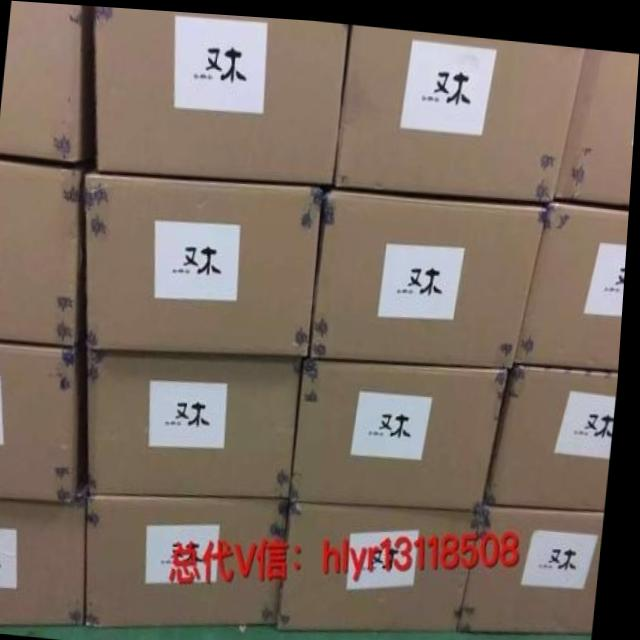box: (93, 5, 349, 178), (85, 172, 322, 353), (333, 22, 584, 189), (317, 187, 550, 365), (295, 352, 512, 507), (88, 347, 307, 493), (92, 491, 295, 622), (285, 494, 489, 623), (0, 152, 98, 344), (518, 195, 631, 360), (468, 493, 609, 625), (493, 360, 621, 500), (0, 1, 100, 161), (0, 338, 88, 502), (0, 474, 93, 624), (553, 43, 639, 199)
